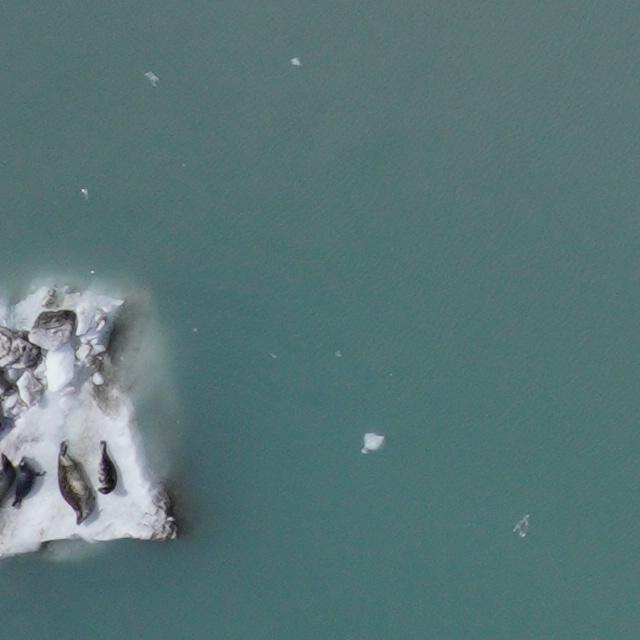seal: (41, 440, 104, 525), (0, 455, 46, 508), (0, 451, 20, 501), (99, 442, 117, 493)
